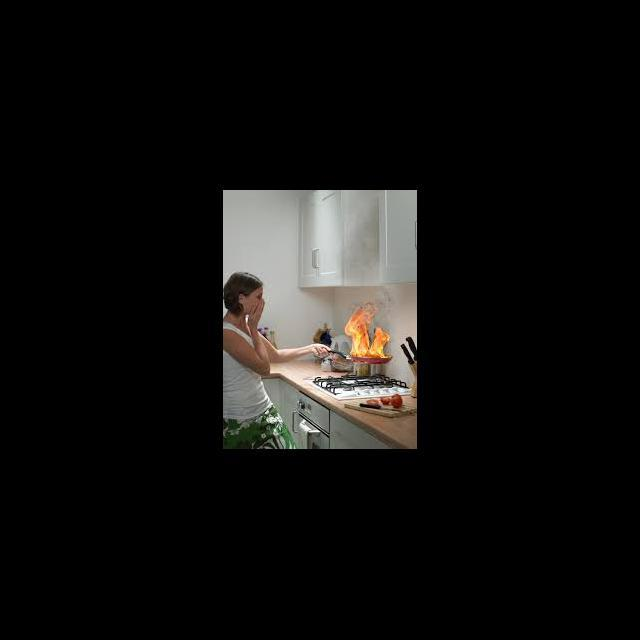Fire: (340, 298, 396, 364)
